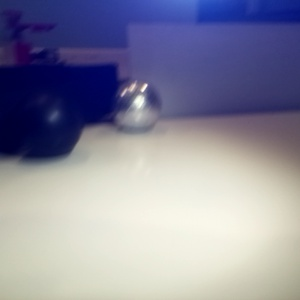alive_ball: (129, 8, 168, 49)
